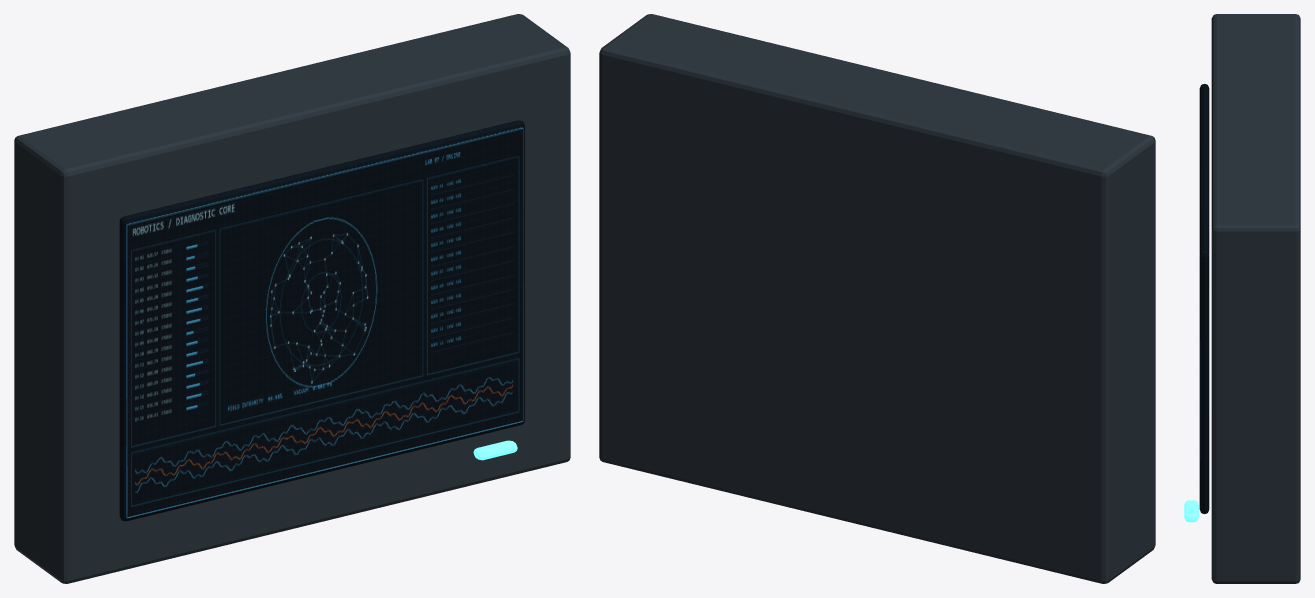
File: SM_Lab_EquipmentCabinet__Display_00.fbx
3 views of the same model, side by side, from view 1: azimuth 30°, elevation 25°; view 2: azimuth 150°, elevation 25°; view 3: azimuth 270°, elevation 25° (orthographic). The views are drawn at different scales.
Parts seen in each view (by area): view 1: SM_Lab_EquipmentCabinet__Display_00; view 2: SM_Lab_EquipmentCabinet__Display_00; view 3: SM_Lab_EquipmentCabinet__Display_00.
Boxes of the visible parts, box(x1,y1,x2,y2) form: SM_Lab_EquipmentCabinet__Display_00: box(14, 14, 570, 583); SM_Lab_EquipmentCabinet__Display_00: box(599, 14, 1155, 583); SM_Lab_EquipmentCabinet__Display_00: box(1184, 14, 1300, 583).
Bounding box in the file's own units: 31.5 × 7.2 × 24.5.
